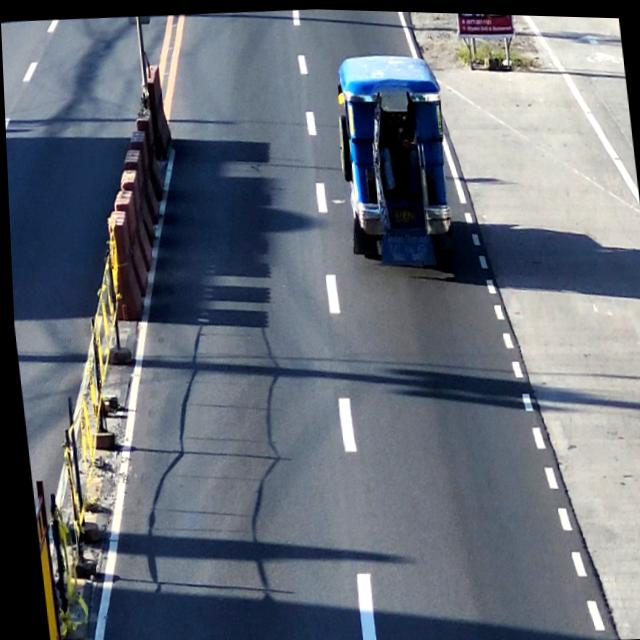Jeep: (330, 47, 456, 267)
License-Plate: (390, 202, 418, 224)
